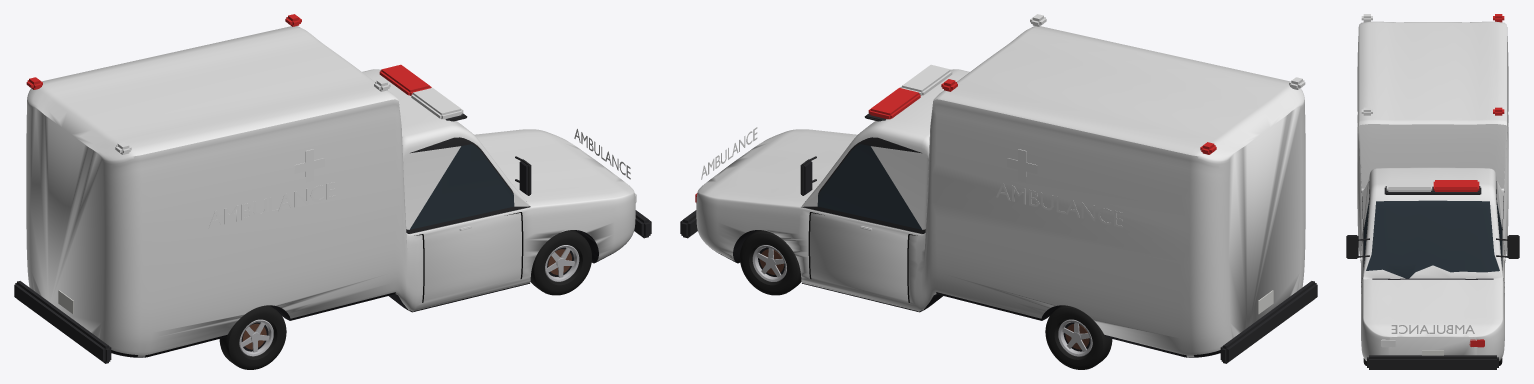
File: veh_ambulance.glb
3 renders of one model, left to right at view 1: azimuth 30°, elevation 25°; view 2: azimuth 150°, elevation 25°; view 3: azimuth 270°, elevation 25°, orthographic. The views are drawn at different scales.
Visible parts, largest first — view 1: ambulance:body, ambulance:tyre1R, ambulance:tyre0R; view 2: ambulance:body, ambulance:tyre1L, ambulance:tyre0L; view 3: ambulance:body.
Part boxes in pixels (bbox=[...]): ambulance:body: bbox=[14, 14, 651, 363]; ambulance:tyre1R: bbox=[219, 305, 286, 369]; ambulance:tyre0R: bbox=[530, 230, 591, 295]; ambulance:body: bbox=[680, 14, 1317, 363]; ambulance:tyre1L: bbox=[1045, 305, 1112, 369]; ambulance:tyre0L: bbox=[740, 230, 801, 295]; ambulance:body: bbox=[1346, 14, 1519, 369].
Size of the model in its own units: 6.58 by 2.94 by 2.43.
